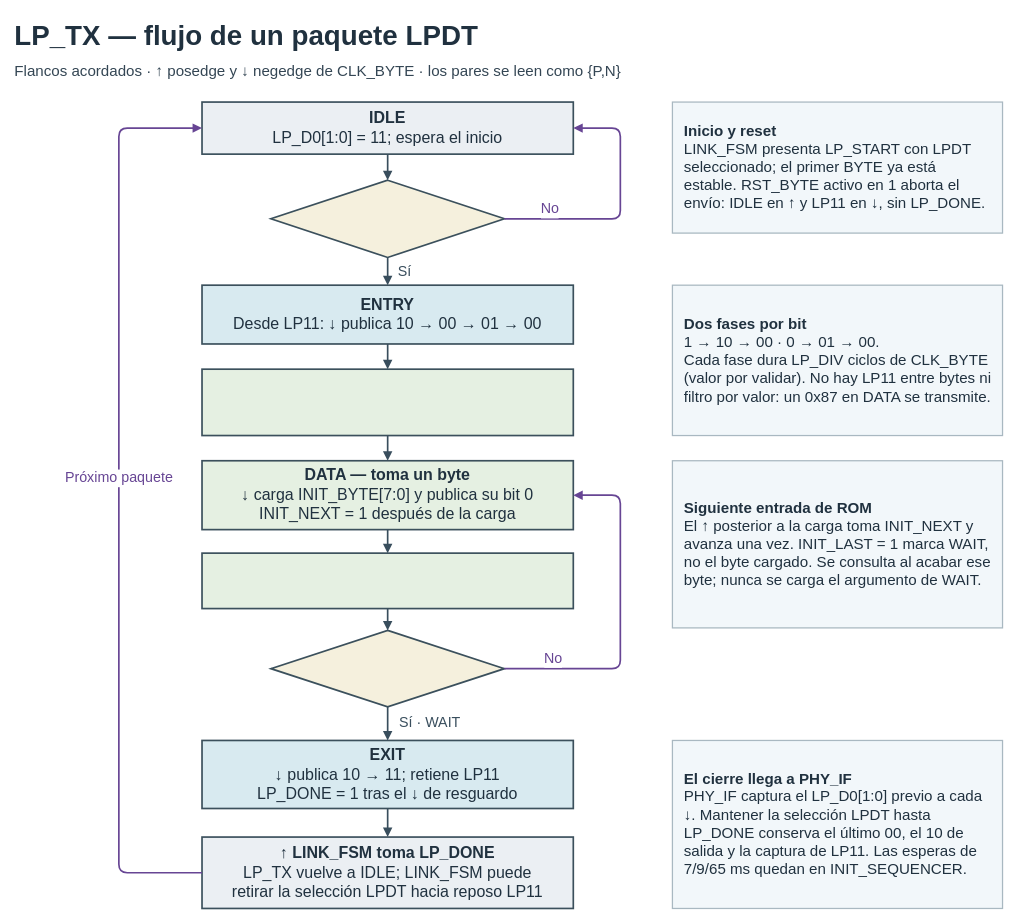
This 1017x923 diagram has some shape labels left out. The centre of each missing label's shape, as x and y in pixels:
CMD ↓ carga y emite 0x87 una vez, LSB primero INIT_NEXT se mantiene en 0: (x=387, y=402)
DATA — termina el byte capturado ↓ alterna marca y espacio hasta el 00 de b7: (x=387, y=580)
¿INIT_LAST = 1? ↑ en frontera de byte: (x=387, y=668)
↑ ¿LP_START = 1 e INIT_LAST = 0?: (x=387, y=218)
